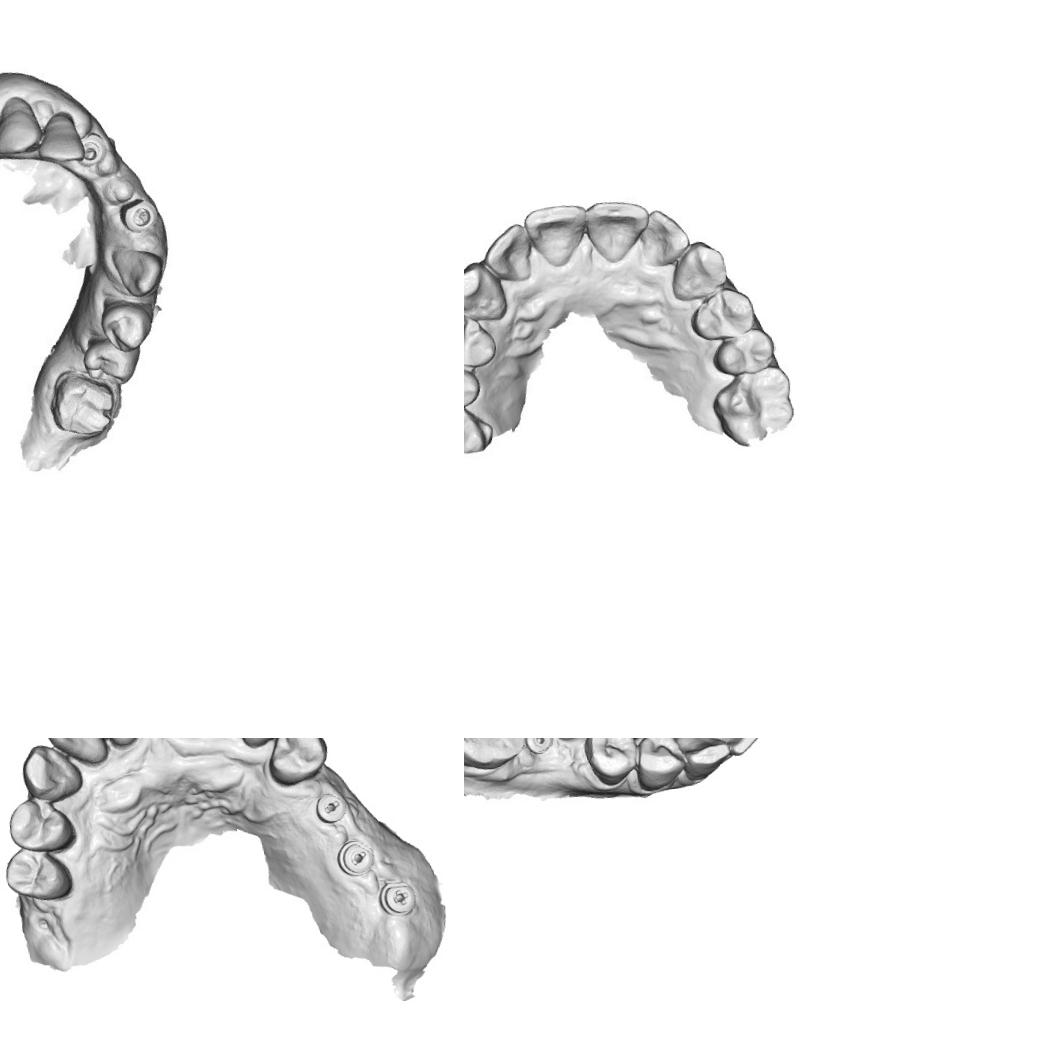canine: (17, 738, 86, 805), (666, 236, 732, 304), (105, 244, 164, 300), (464, 257, 511, 326), (673, 738, 734, 784), (0, 96, 43, 159)
crown: (46, 364, 124, 446)
implant: (118, 190, 161, 240), (75, 133, 110, 170), (523, 738, 556, 758)
implant_minus: (332, 837, 378, 881), (312, 791, 351, 827)
implant_plus: (375, 876, 419, 920)
incisor: (582, 194, 656, 266), (522, 201, 592, 272), (634, 204, 693, 269), (478, 221, 536, 287), (32, 110, 89, 166), (41, 738, 111, 771), (700, 738, 766, 761)
molar: (708, 364, 799, 450), (464, 738, 533, 776)
premolar: (1, 839, 75, 906), (685, 283, 760, 346), (5, 793, 76, 856), (708, 325, 779, 380), (98, 296, 161, 352), (262, 738, 332, 788), (579, 738, 644, 790), (630, 738, 691, 793), (78, 334, 140, 387), (464, 307, 500, 373), (464, 356, 483, 414)
